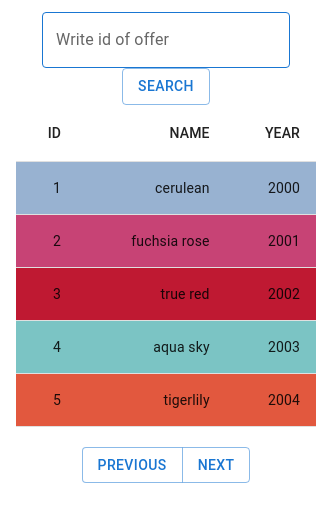
it: Products.tsx › if selected item will be only show by click an element
What coordinates should you click on to do the following:
click the text "cerulean"
I would click on:
 (151, 188)
Its box is [77,161,226,214].
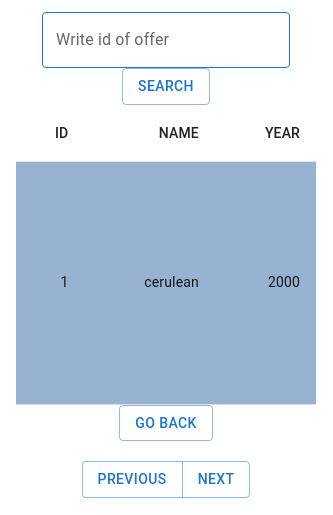
Expected: the text "fuchsia rose" is gone
